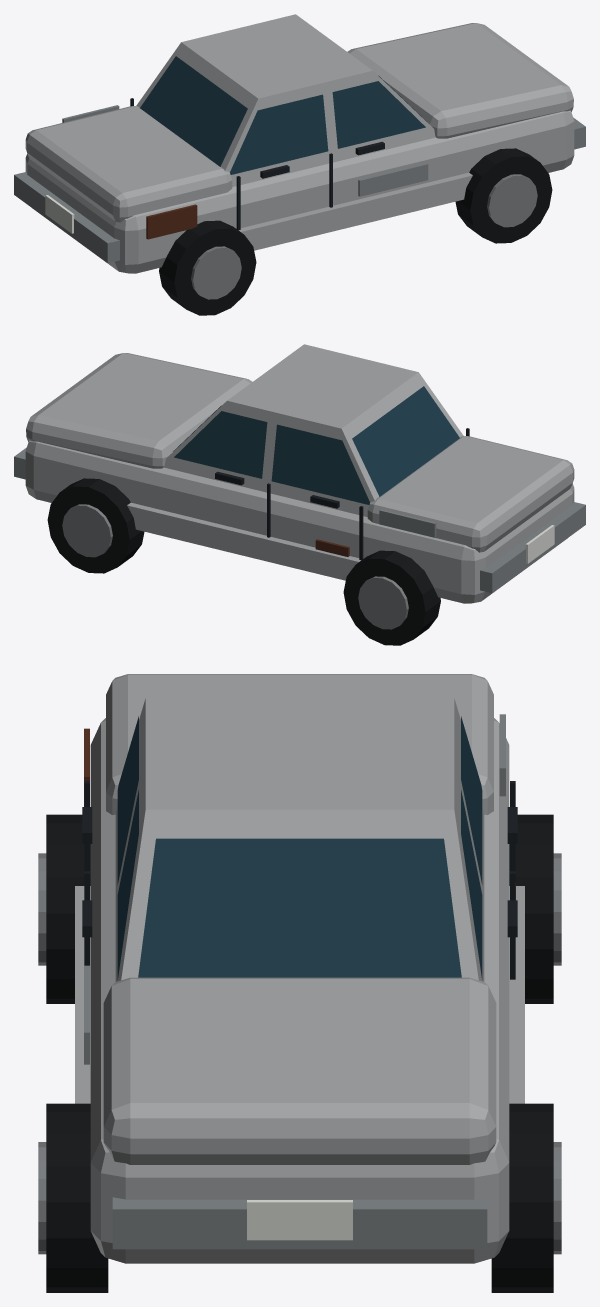
File: Stage3.glb
3 views of the same model, one above another, from view 1: azimuth 30°, elevation 25°; view 2: azimuth 150°, elevation 25°; view 3: azimuth 270°, elevation 25° (orthographic). The views are drawn at different scales.
Parts seen in each view (by area): view 1: LowerBody.002, CabinShell.002, Hood.002, Trunk.002, SideWindows, RearWindow.001, RockerPanels.002, Tire_-1.55_-1.003, Tire_1.55_-1.002, Bumpers.001, Rim_-1.55_-1.003, Rim_1.55_-1.002 (+5 smaller); view 2: LowerBody.002, CabinShell.002, Hood.002, Trunk.002, SideWindows, RearWindow.001, RockerPanels.002, Tire_-1.55_1.003, Tire_1.55_1.003, Bumpers.001, Rim_-1.55_1.003, Rim_1.55_1.003 (+4 smaller); view 3: Hood.002, CabinShell.002, Windshield.002, LowerBody.002, Bumpers.001, Trunk.002, Tire_1.55_-1.002, Tire_1.55_1.003, SideWindows, Tire_-1.55_-1.003, Tire_-1.55_1.003, RockerPanels.002 (+8 smaller).
Part boxes in pixels (x1,y1,x2,y2): LowerBody.002: (25,110,574,273); CabinShell.002: (136,14,435,186); Hood.002: (347,23,573,138); Trunk.002: (25,106,232,222); SideWindows: (230,81,425,174); RearWindow.001: (140,56,247,166); RockerPanels.002: (239,172,472,250); Tire_-1.55_-1.003: (159,220,256,315); Tire_1.55_-1.002: (455,148,552,243); Bumpers.001: (14,117,585,263); Rim_-1.55_-1.003: (191,246,241,299); Rim_1.55_-1.002: (487,174,537,227); LowerBody.002: (25,440,574,603); CabinShell.002: (164,344,463,516); Hood.002: (26,353,252,468); Trunk.002: (367,436,574,552); SideWindows: (174,411,369,504); RearWindow.001: (352,386,459,496); RockerPanels.002: (127,502,360,580); Tire_-1.55_1.003: (343,550,440,645); Tire_1.55_1.003: (47,478,144,573); Bumpers.001: (14,447,585,593); Rim_-1.55_1.003: (358,576,408,629); Rim_1.55_1.003: (62,504,112,557); Hood.002: (103,977,496,1164); CabinShell.002: (115,697,484,981); Windshield.002: (138,838,461,977); LowerBody.002: (90,718,509,1263); Bumpers.001: (112,1197,487,1249); Trunk.002: (106,674,493,814); Tire_1.55_-1.002: (46,1103,108,1292); Tire_1.55_1.003: (491,1103,553,1292); SideWindows: (117,716,482,979); Tire_-1.55_-1.003: (46,814,90,1003); Tire_-1.55_1.003: (509,814,553,1003); RockerPanels.002: (75,886,524,1103).
Size of the model in its own units: 5.05 by 1.82 by 2.37.
